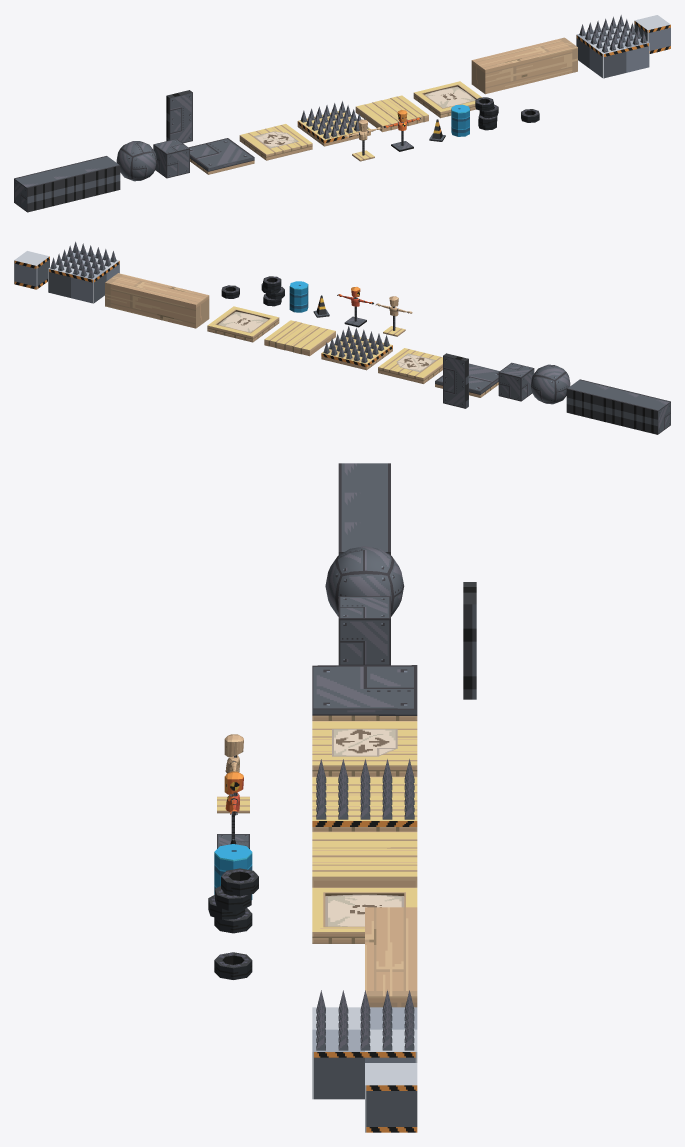
3 renders of one model, top to bottom at view 1: azimuth 30°, elevation 25°; view 2: azimuth 150°, elevation 25°; view 3: azimuth 270°, elevation 25°, orthographic. The views are drawn at different scales.
Parts seen in each view (by area): view 1: beam, metal_beam, cube 1x2 spike, plat_spike, plat_move, plat_metal, plat_fall, plat_jump, metal_door, metal_sphere, cube_metal, cube (+4 smaller); view 2: beam, metal_beam, cube 1x2 spike, plat_spike, plat_jump, plat_fall, plat_move, metal_door, metal_sphere, cube, cube_metal, plat_metal (+4 smaller); view 3: cube 1x2 spike, plat_spike, plat_fall, plat_metal, plat_move, beam, metal_beam, plat_jump, cube, cube_metal, metal_sphere, wheel pile (+4 smaller).
Part boxes in pixels (x1=…): beam: x1=471, y1=37, x2=577, y2=94; metal_beam: x1=14, y1=156, x2=120, y2=212; cube 1x2 spike: x1=576, y1=15, x2=649, y2=78; plat_spike: x1=297, y1=101, x2=370, y2=146; plat_move: x1=239, y1=124, x2=312, y2=160; plat_metal: x1=189, y1=138, x2=254, y2=174; plat_fall: x1=355, y1=95, x2=428, y2=132; plat_jump: x1=413, y1=81, x2=481, y2=118; metal_door: x1=166, y1=90, x2=192, y2=143; metal_sphere: x1=116, y1=141, x2=156, y2=181; cube_metal: x1=153, y1=139, x2=189, y2=178; cube: x1=634, y1=15, x2=670, y2=53; beam: x1=105, y1=273, x2=209, y2=328; metal_beam: x1=566, y1=379, x2=670, y2=434; cube 1x2 spike: x1=48, y1=241, x2=119, y2=303; plat_spike: x1=321, y1=326, x2=392, y2=370; plat_jump: x1=207, y1=306, x2=279, y2=342; plat_fall: x1=264, y1=320, x2=335, y2=356; plat_move: x1=378, y1=348, x2=442, y2=383; metal_door: x1=443, y1=353, x2=468, y2=408; metal_sphere: x1=531, y1=364, x2=570, y2=404; cube: x1=14, y1=251, x2=49, y2=289; cube_metal: x1=498, y1=362, x2=534, y2=401; plat_metal: x1=435, y1=363, x2=499, y2=397; cube 1x2 spike: x1=312, y1=990, x2=417, y2=1099; plat_spike: x1=312, y1=759, x2=417, y2=831; plat_fall: x1=312, y1=831, x2=417, y2=887; plat_metal: x1=312, y1=665, x2=417, y2=720; plat_move: x1=312, y1=721, x2=417, y2=776; beam: x1=365, y1=907, x2=417, y2=1007; metal_beam: x1=338, y1=463, x2=390, y2=554; plat_jump: x1=312, y1=887, x2=417, y2=943; cube: x1=365, y1=1063, x2=417, y2=1132; cube_metal: x1=338, y1=596, x2=390, y2=665; metal_sphere: x1=325, y1=546, x2=404, y2=616; wheel pile: x1=208, y1=868, x2=258, y2=933.
Bounding box in the file's own units: 28 × 2.13 × 5.1.
Materials: 1 (1 with a texture image).
